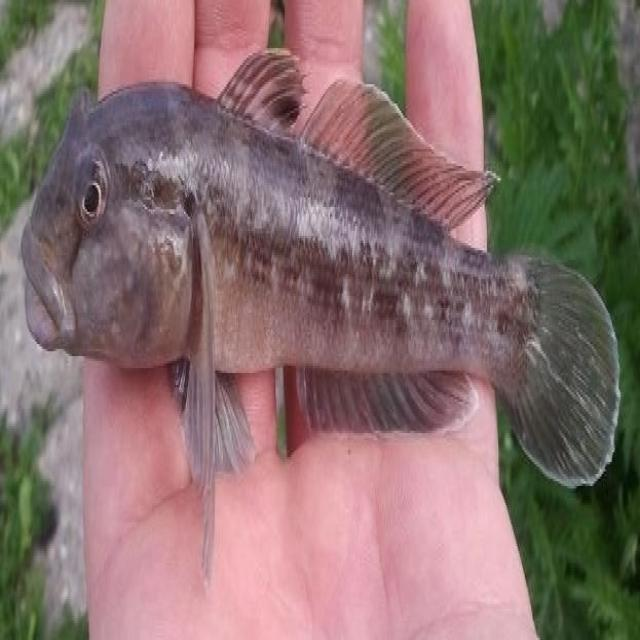Goby: (5, 18, 635, 580)
